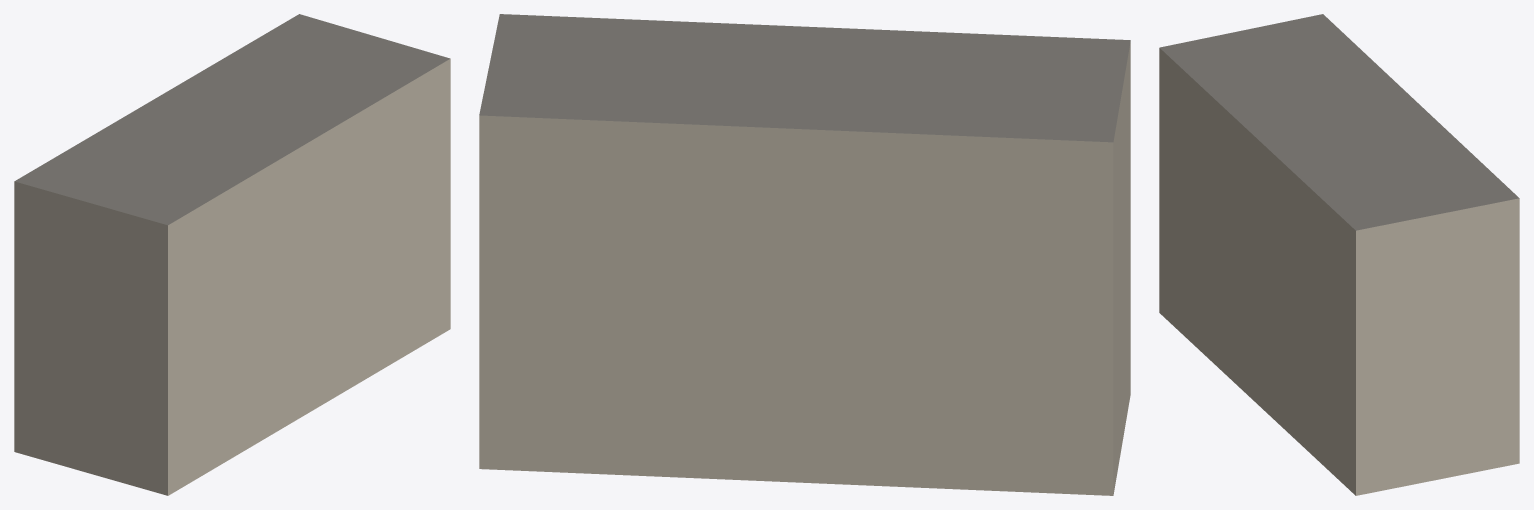
3 views of the same model, side by side, from view 1: azimuth 30°, elevation 25°; view 2: azimuth 150°, elevation 25°; view 3: azimuth 270°, elevation 25° (orthographic). The views are drawn at different scales.
Visible parts, largest first — view 1: HP-w505633359; view 2: HP-w505633359; view 3: HP-w505633359.
Part boxes in pixels (x1=…): HP-w505633359: x1=14, y1=14, x2=450, y2=495; HP-w505633359: x1=479, y1=14, x2=1130, y2=495; HP-w505633359: x1=1159, y1=14, x2=1519, y2=495.
Bounding box in the file's own units: 31.53 × 18 × 22.15.
